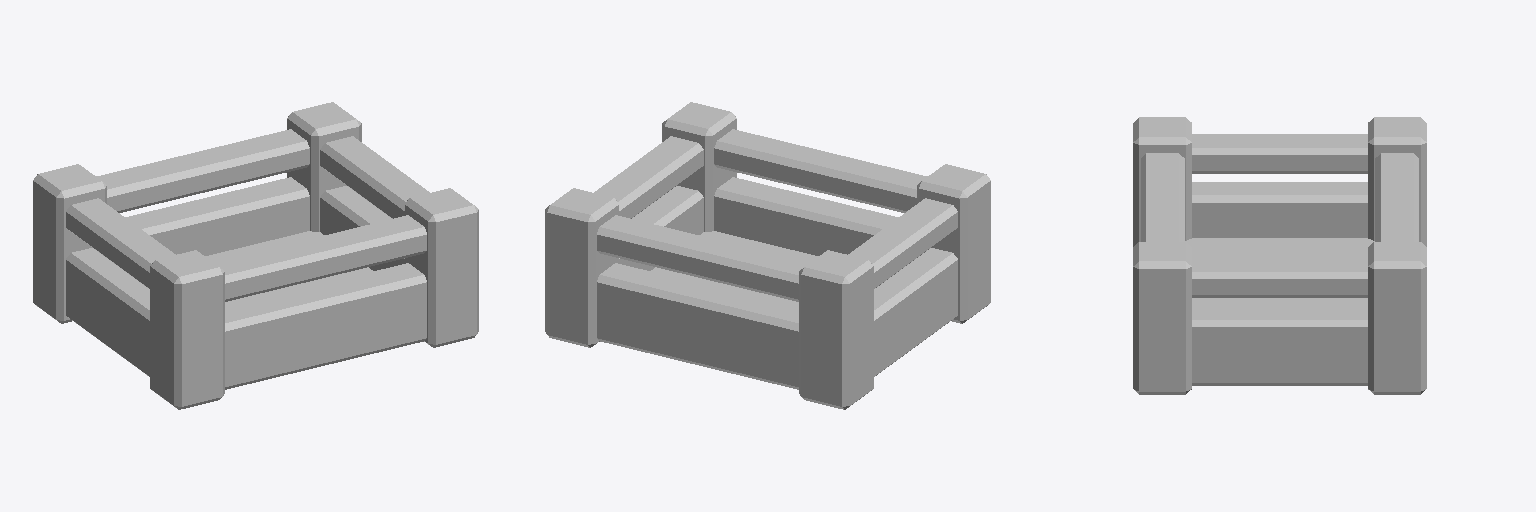
The model's file is crate.obj.
3 views of the same model, side by side, from view 1: azimuth 30°, elevation 25°; view 2: azimuth 150°, elevation 25°; view 3: azimuth 270°, elevation 25° (orthographic).
Visible parts, largest first — view 1: crate; view 2: crate; view 3: crate.
Part boxes in pixels (x1,y1,x2,y2): crate: (33, 102, 478, 409); crate: (545, 102, 990, 409); crate: (1133, 117, 1426, 394).
Bounding box in the file's own units: 1.2 × 0.5 × 1.